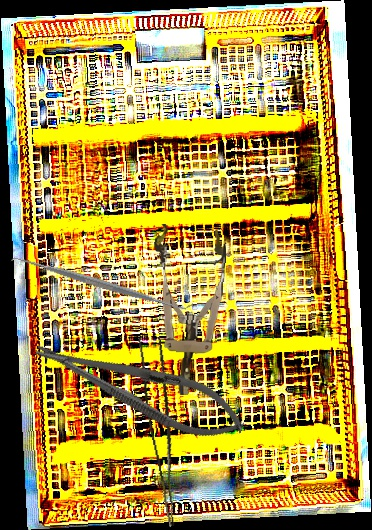Needle Holder: (27, 322, 253, 453)
Spatula Surgical: (9, 246, 194, 321)
Speculum: (146, 223, 228, 397)
Tissue Forceps: (133, 335, 196, 527)
